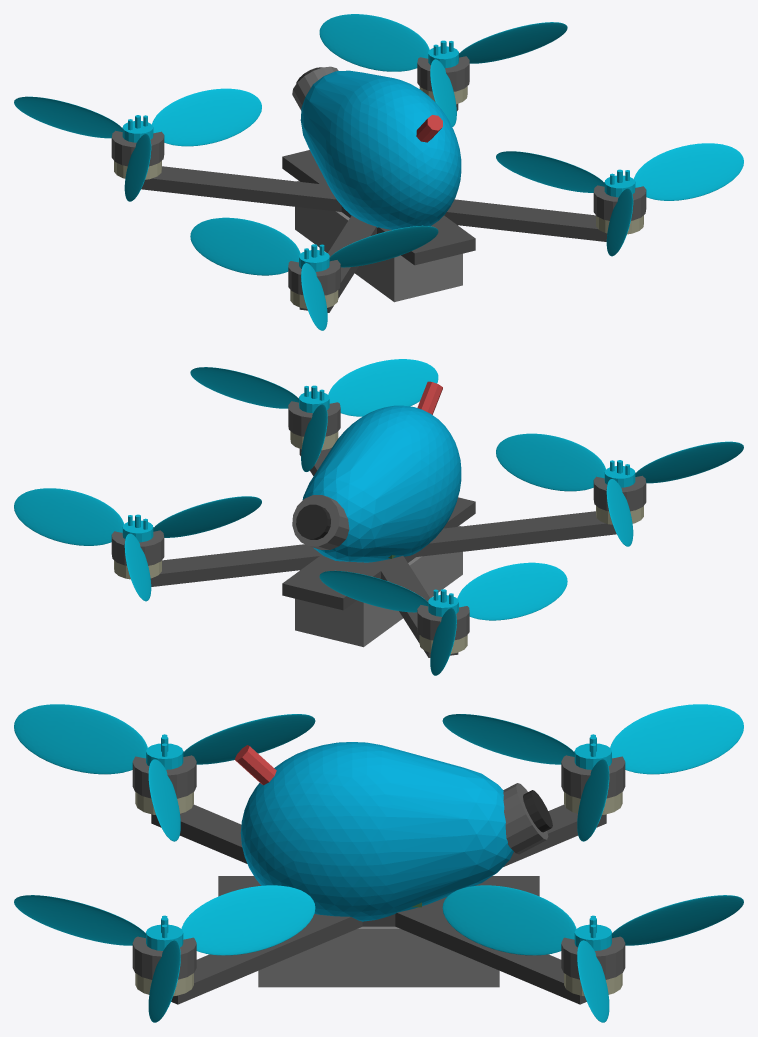
3 renders of one model, top to bottom at view 1: azimuth 30°, elevation 25°; view 2: azimuth 150°, elevation 25°; view 3: azimuth 270°, elevation 25°, orthographic. The views are drawn at different scales.
Visible parts, largest first — view 1: mat_plastic_canopy, mat_carbon_frame, prop_mat_plastic_1, prop_mat_plastic_2, prop_mat_plastic_0, prop_mat_plastic_3, mat_batt_body, mat_metal_bell_0, mat_metal_bell_2, mat_metal_bell_3, mat_metal_bell_1, mat_plastic_camera_base; view 2: mat_plastic_canopy, mat_carbon_frame, prop_mat_plastic_2, prop_mat_plastic_1, prop_mat_plastic_3, prop_mat_plastic_0, mat_batt_body, mat_plastic_camera_base, mat_metal_bell_3, mat_metal_bell_1, mat_metal_bell_0, mat_metal_bell_2 (+2 smaller); view 3: mat_plastic_canopy, mat_carbon_frame, prop_mat_plastic_0, prop_mat_plastic_3, prop_mat_plastic_2, prop_mat_plastic_1, mat_batt_body, mat_plastic_camera_base, mat_metal_bell_0, mat_metal_bell_3, mat_metal_bell_1, mat_metal_bell_2 (+6 smaller).
Part boxes in pixels (x1,y1,x2,y2): mat_plastic_canopy: (300, 70, 461, 229); mat_carbon_frame: (141, 104, 607, 312); prop_mat_plastic_1: (190, 217, 438, 330); prop_mat_plastic_2: (14, 88, 261, 201); prop_mat_plastic_0: (496, 143, 743, 256); prop_mat_plastic_3: (319, 14, 567, 126); mat_batt_body: (295, 180, 462, 302); mat_metal_bell_0: (593, 182, 646, 220); mat_metal_bell_2: (111, 127, 164, 166); mat_metal_bell_3: (417, 53, 469, 91); mat_metal_bell_1: (288, 256, 340, 295); mat_plastic_camera_base: (292, 66, 338, 110); mat_plastic_canopy: (302, 405, 461, 562); mat_carbon_frame: (150, 447, 616, 657); prop_mat_plastic_2: (319, 562, 567, 675); prop_mat_plastic_1: (496, 433, 743, 546); prop_mat_plastic_3: (14, 488, 261, 601); prop_mat_plastic_0: (190, 359, 438, 471); mat_batt_body: (295, 525, 462, 647); mat_plastic_camera_base: (292, 495, 349, 550); mat_metal_bell_3: (111, 527, 164, 565); mat_metal_bell_1: (593, 472, 646, 511); mat_metal_bell_0: (288, 398, 340, 436); mat_metal_bell_2: (417, 601, 469, 640); mat_plastic_canopy: (240, 742, 513, 921); mat_carbon_frame: (151, 804, 606, 1004); prop_mat_plastic_0: (14, 885, 315, 1022); prop_mat_plastic_3: (442, 885, 743, 1022); prop_mat_plastic_2: (442, 704, 743, 841); prop_mat_plastic_1: (14, 704, 315, 841); mat_batt_body: (258, 926, 499, 987); mat_plastic_camera_base: (503, 783, 548, 854); mat_metal_bell_0: (132, 932, 196, 979); mat_metal_bell_3: (561, 932, 625, 979); mat_metal_bell_1: (132, 751, 196, 798); mat_metal_bell_2: (561, 751, 625, 798).
Bounding box in the file's own units: 0.129 × 0.0454 × 0.1362.
